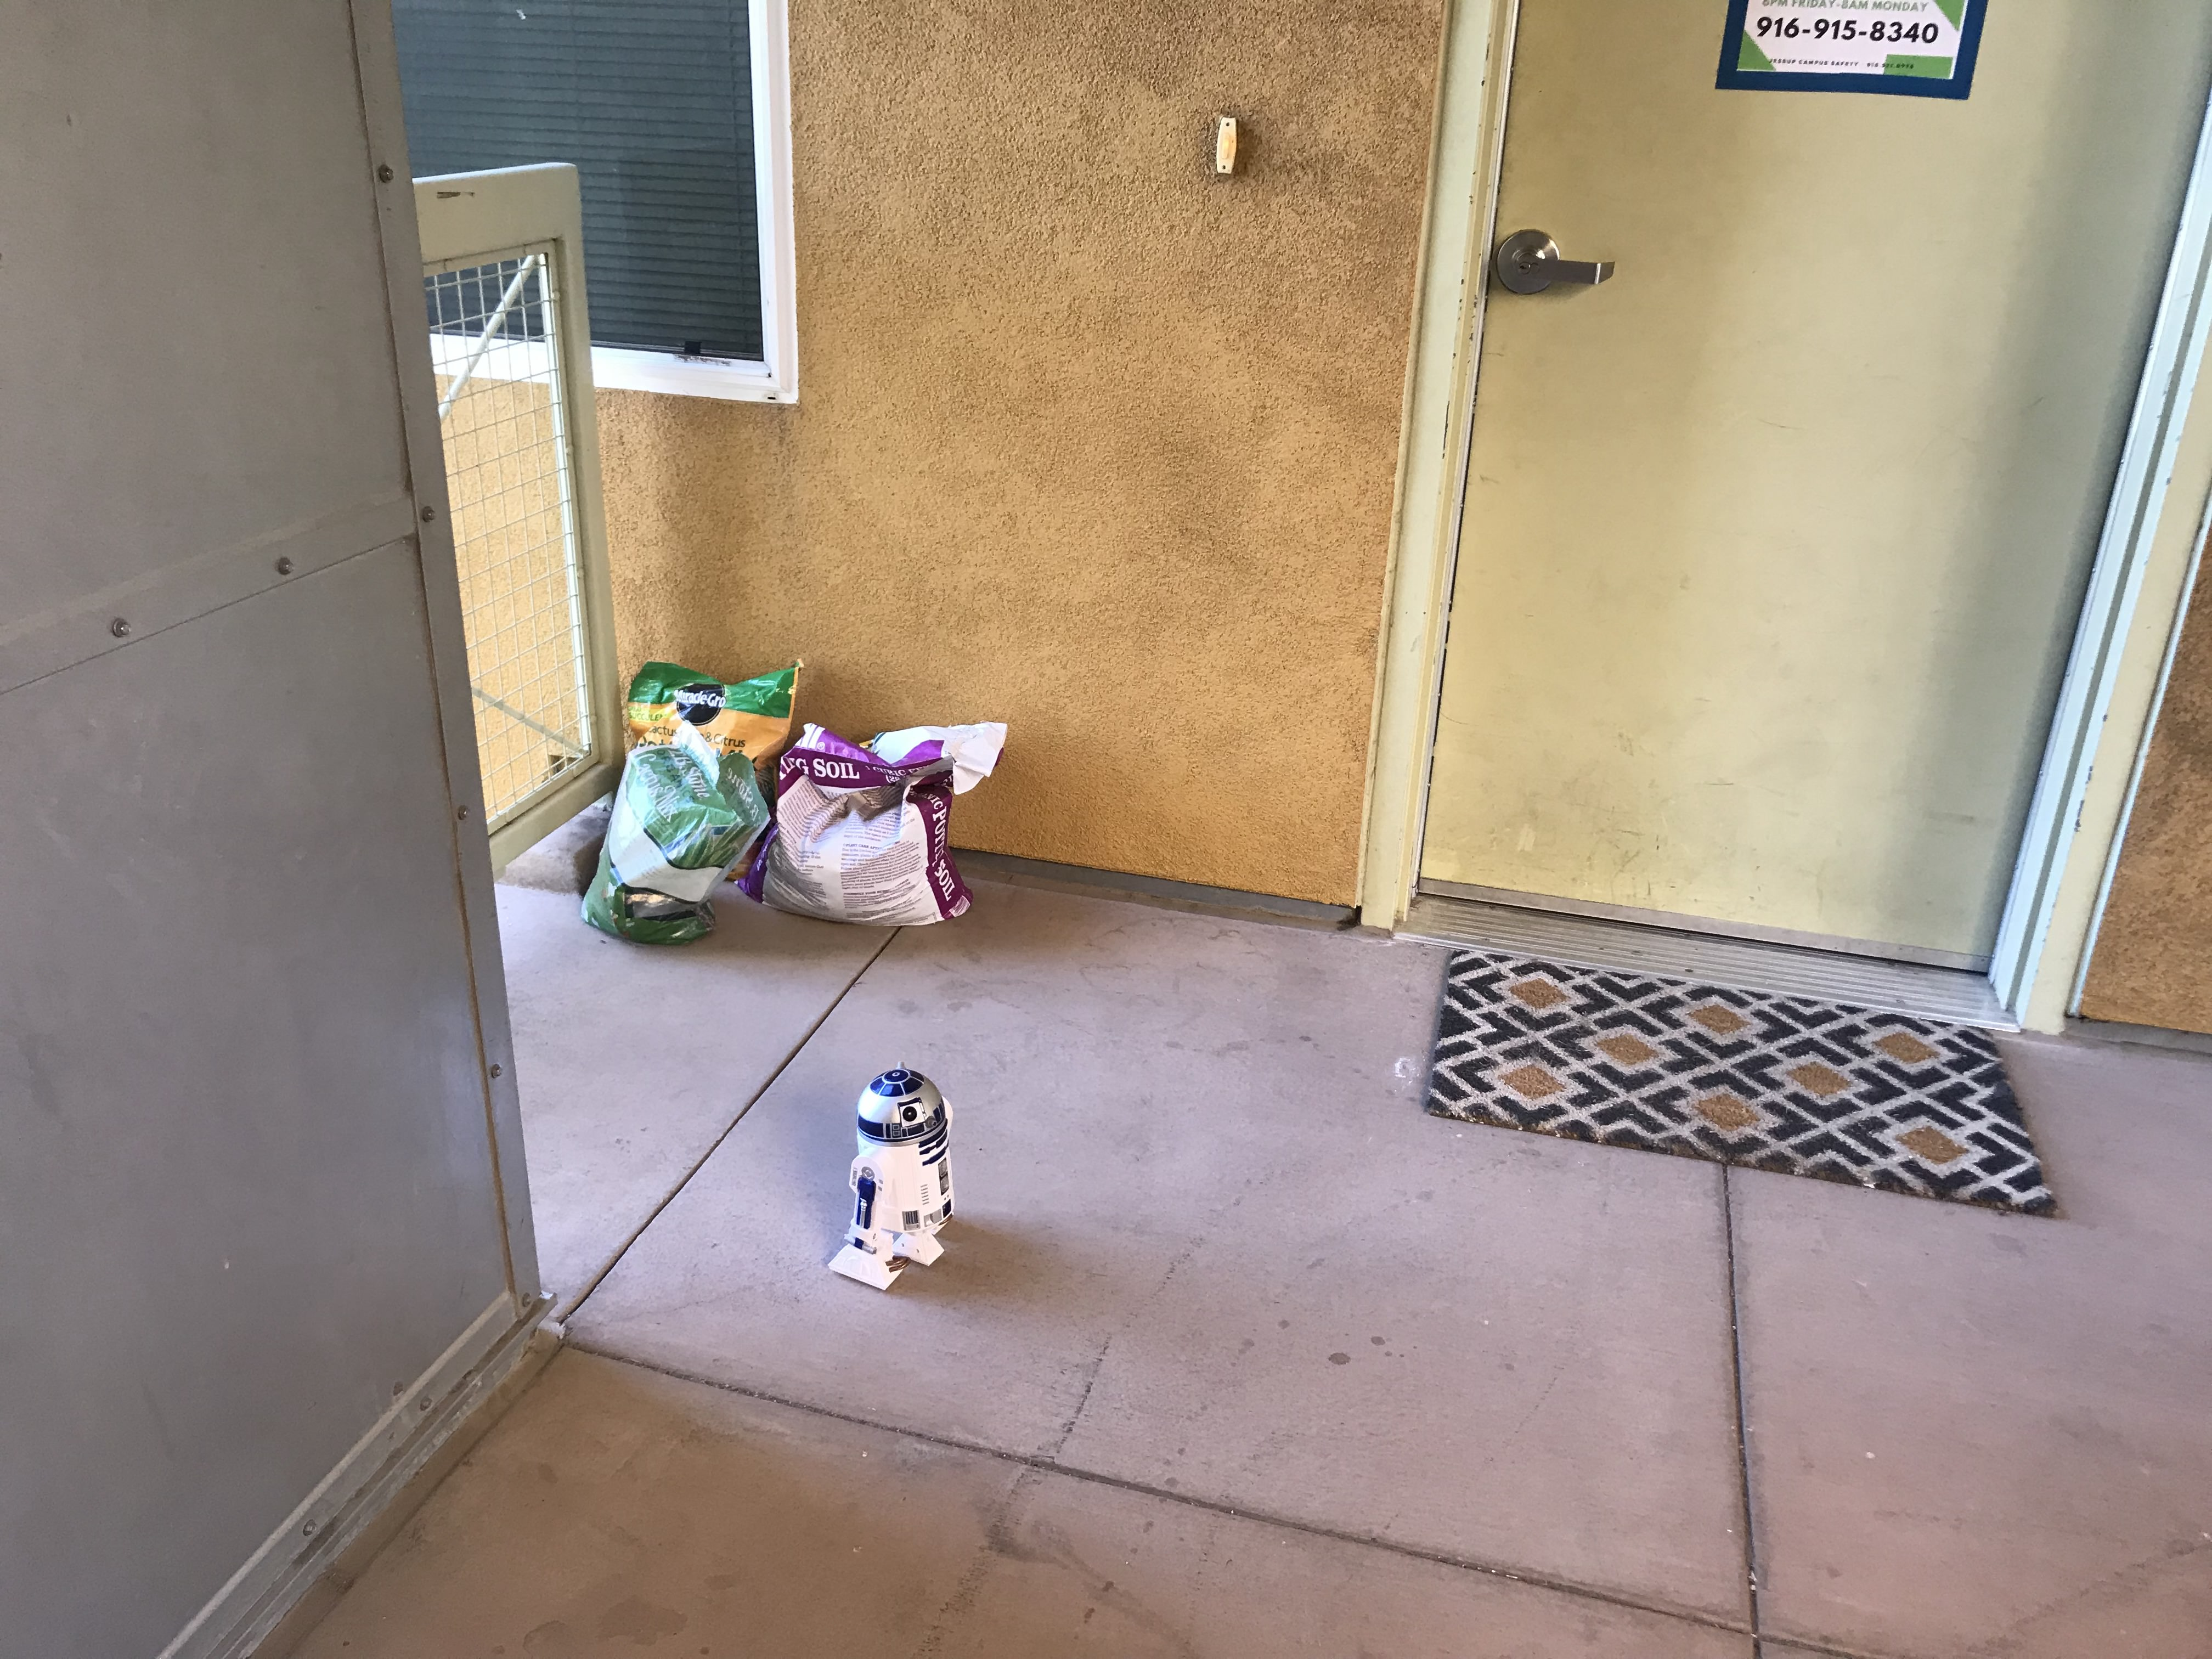r2d2: (831, 1068, 956, 1291)
